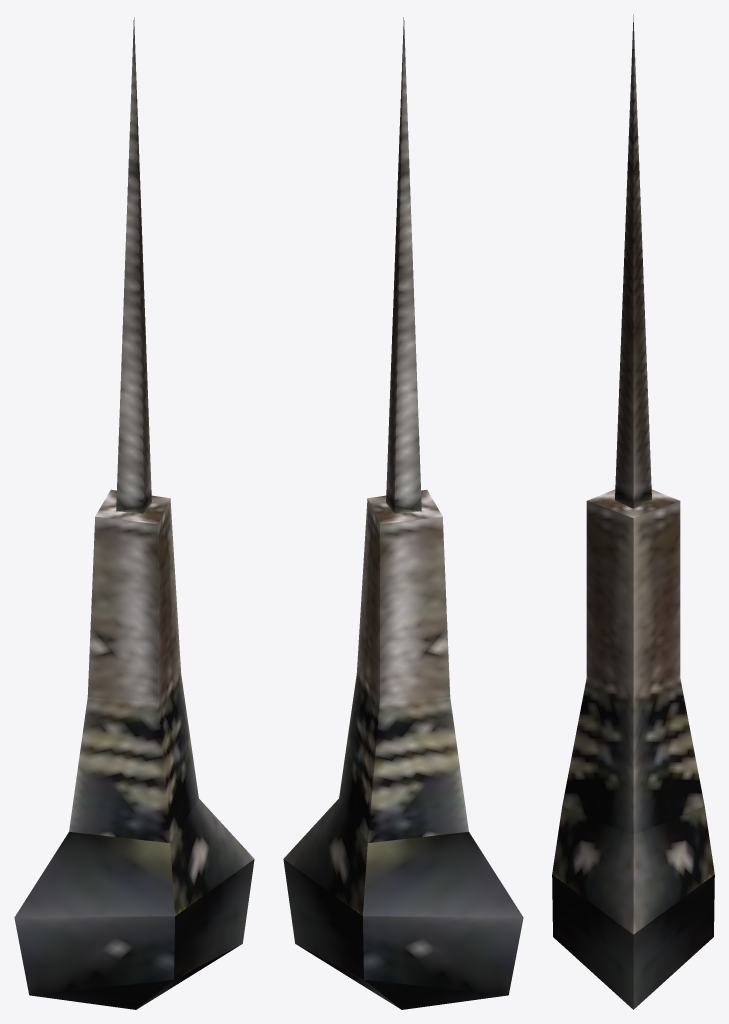
Rendered from Awl.obj.
3 views of the same model, side by side, from view 1: azimuth 30°, elevation 25°; view 2: azimuth 150°, elevation 25°; view 3: azimuth 270°, elevation 25° (orthographic).
Visible parts, largest first — view 1: Cube; view 2: Cube; view 3: Cube.
Part boxes in pixels (<box>): Cube: <box>14,17,254,1009</box>; Cube: <box>283,17,523,1009</box>; Cube: <box>552,14,714,1009</box>.
Size of the model in its own units: 0.3089 by 1.22 by 0.1838.
1 material, 1 textured.
